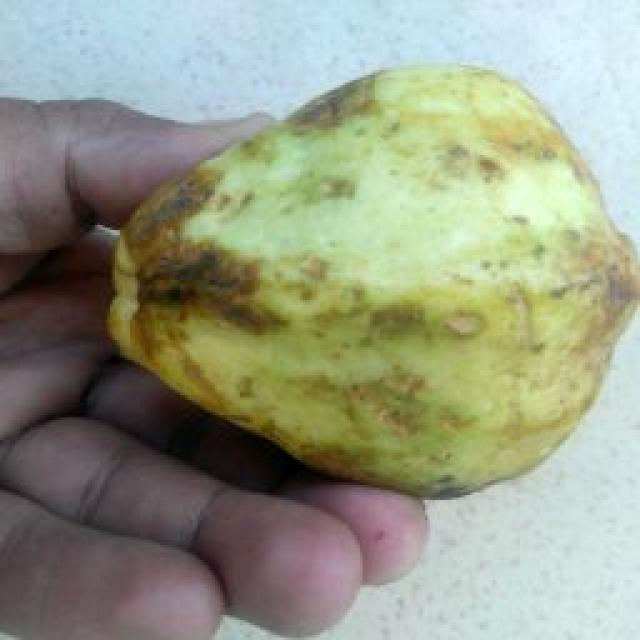Bad_Guava: (109, 66, 636, 497)
